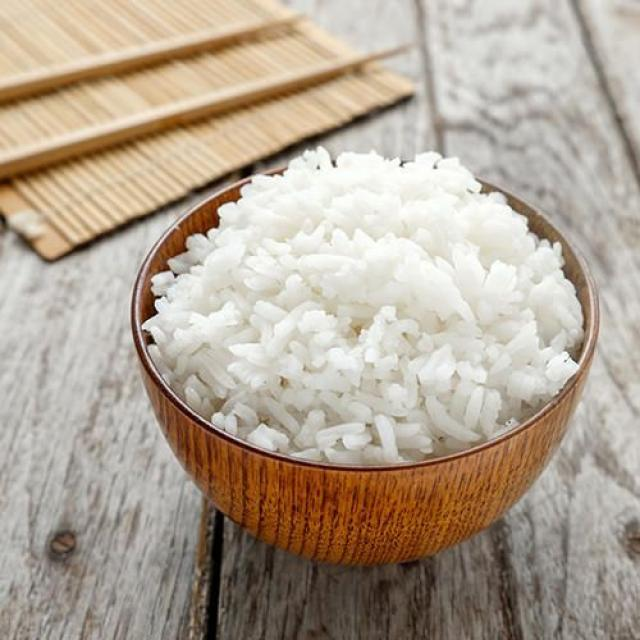rice: (145, 149, 582, 463)
